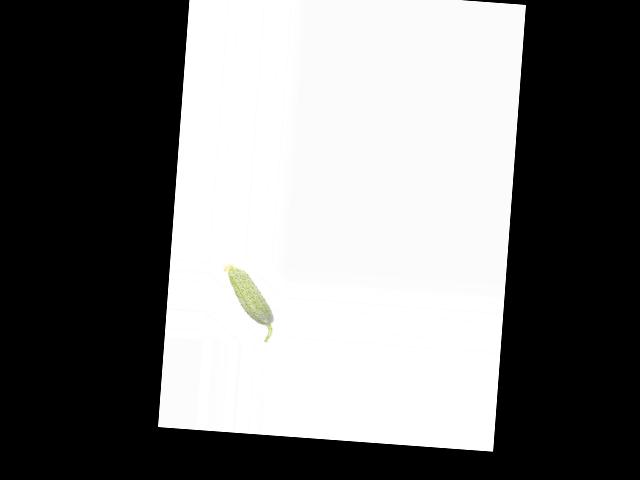cucumber: (218, 263, 277, 341)
